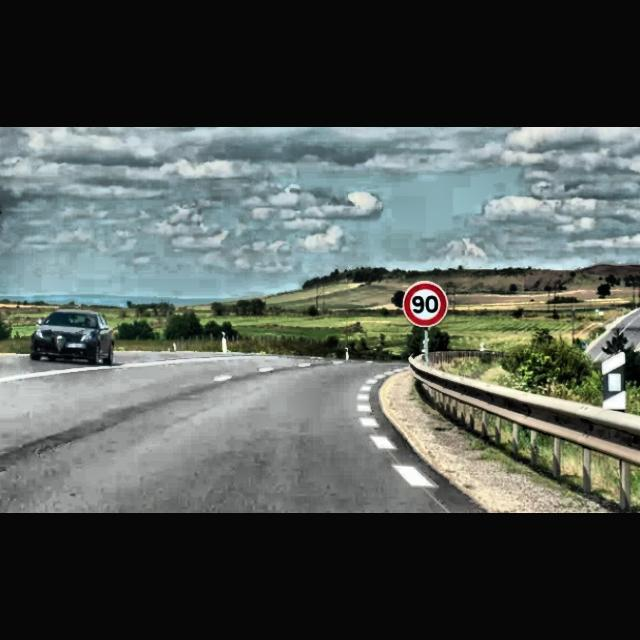speed_90: (403, 280, 449, 330)
